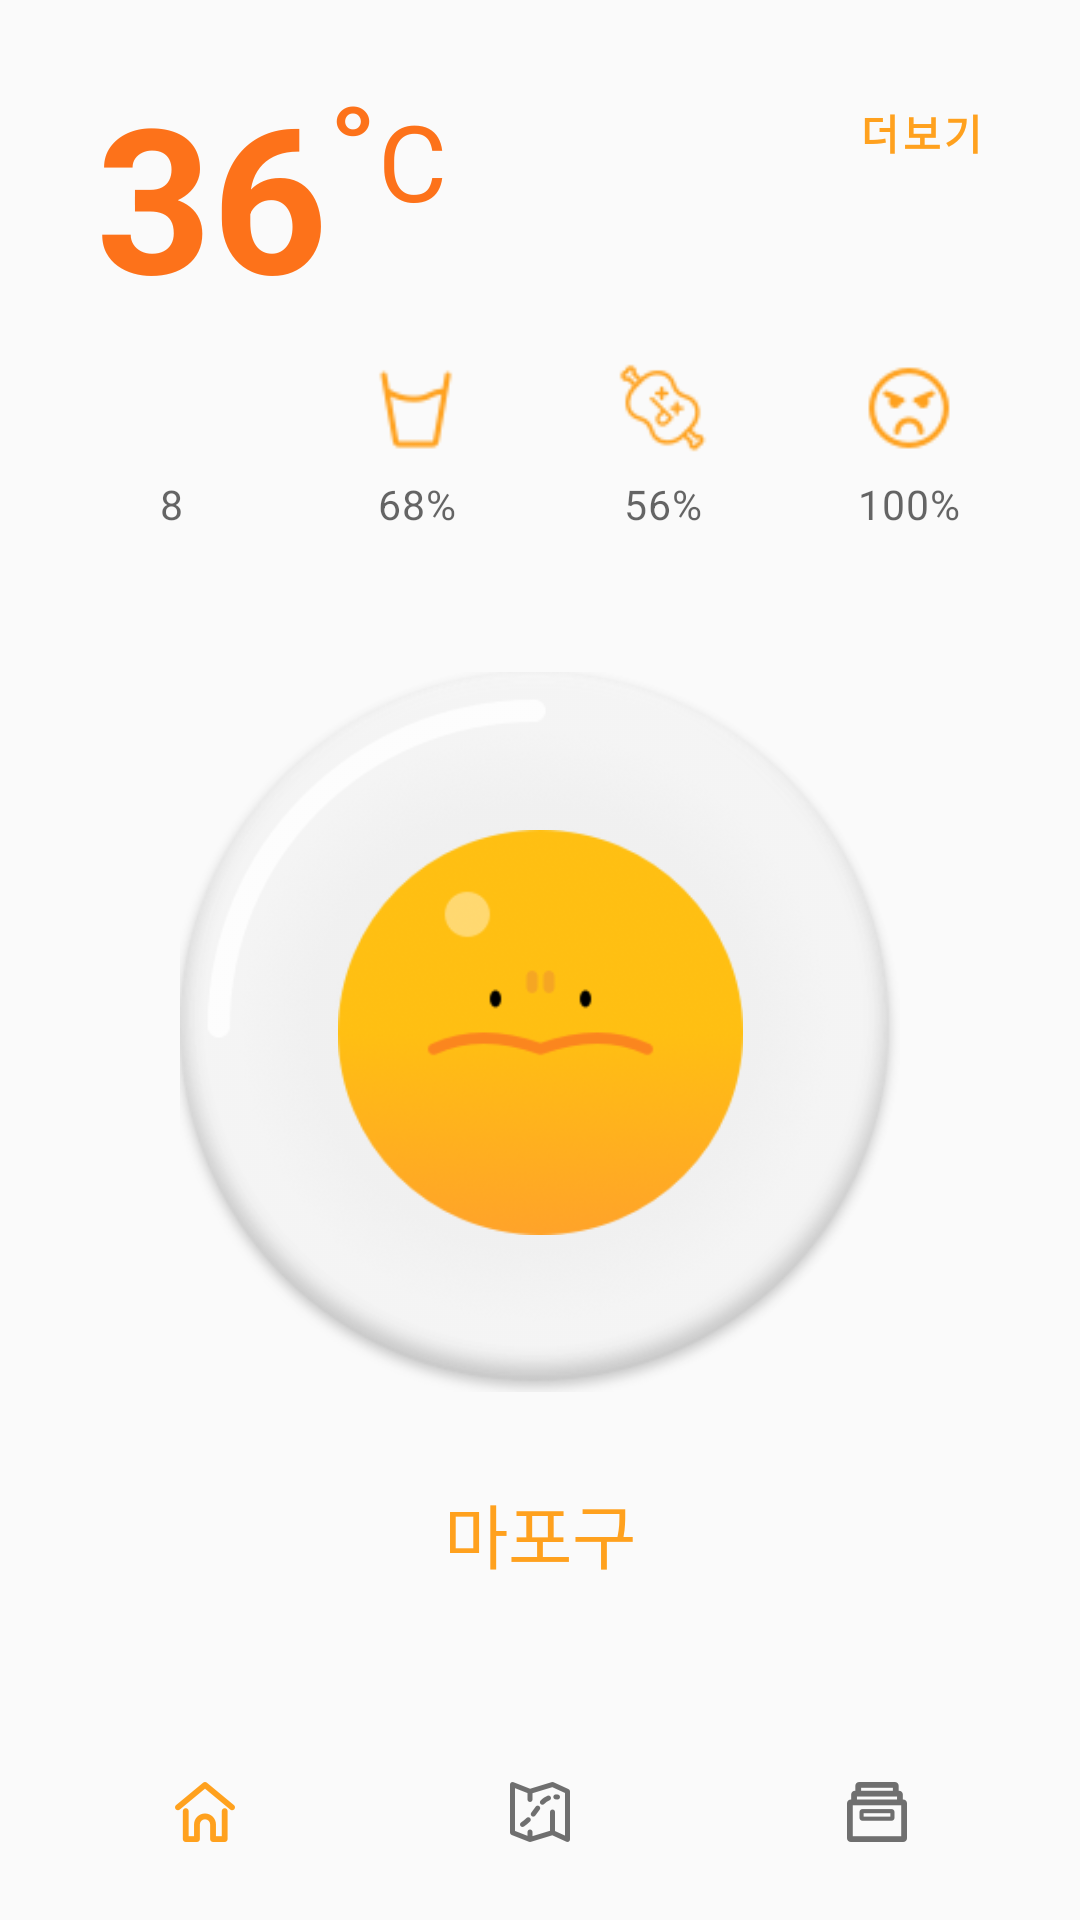

Icons on this 1080px×1920px Android screen, each with its box as box=[x1, y1, x2, y2]:
angry: box=[868, 367, 950, 449]
bottom nav home: box=[175, 1782, 235, 1842]
bottom nav map: box=[510, 1782, 570, 1842]
bottom nav storge: box=[847, 1782, 907, 1842]
